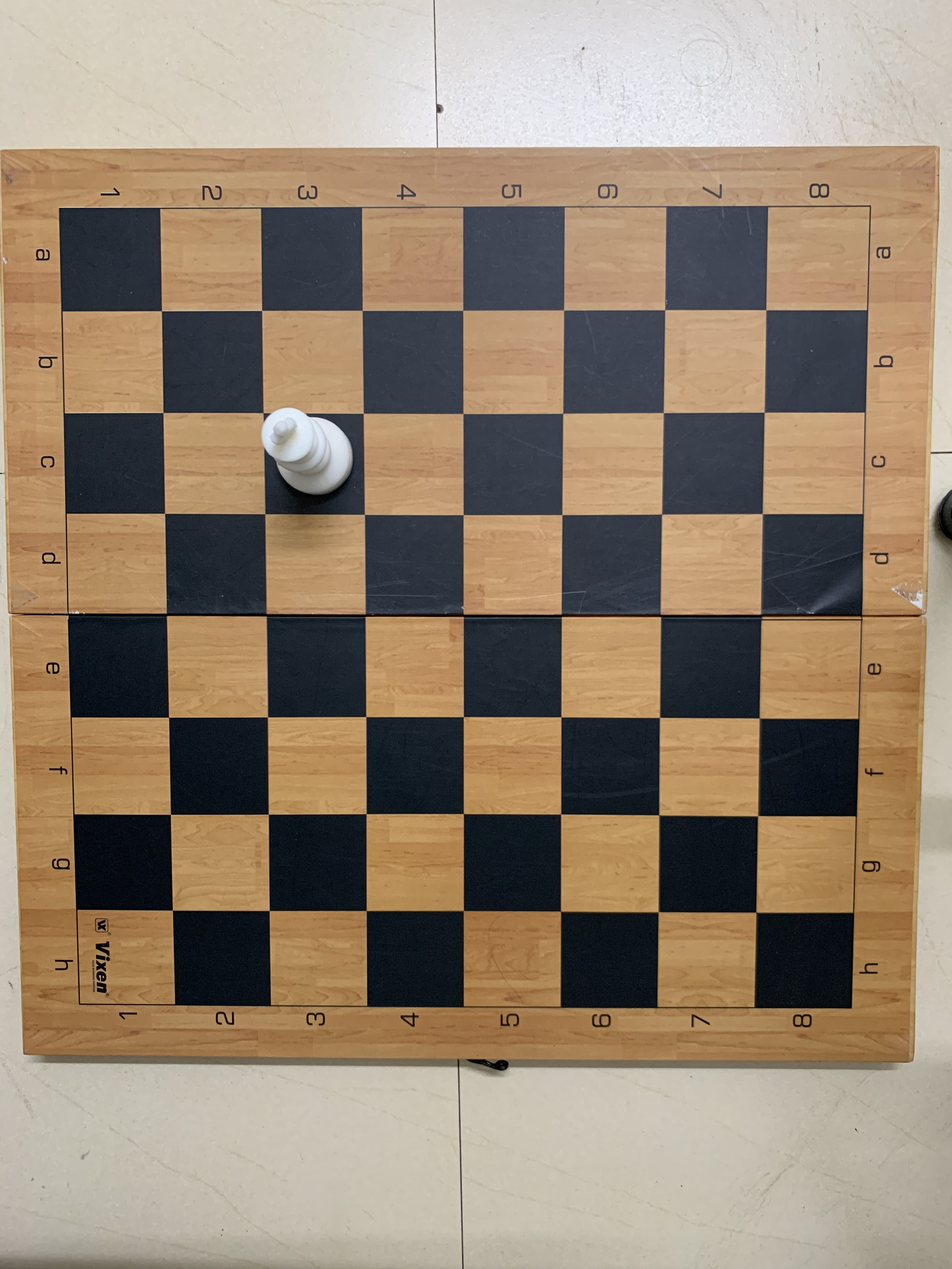white_king: (260, 414, 365, 517)
